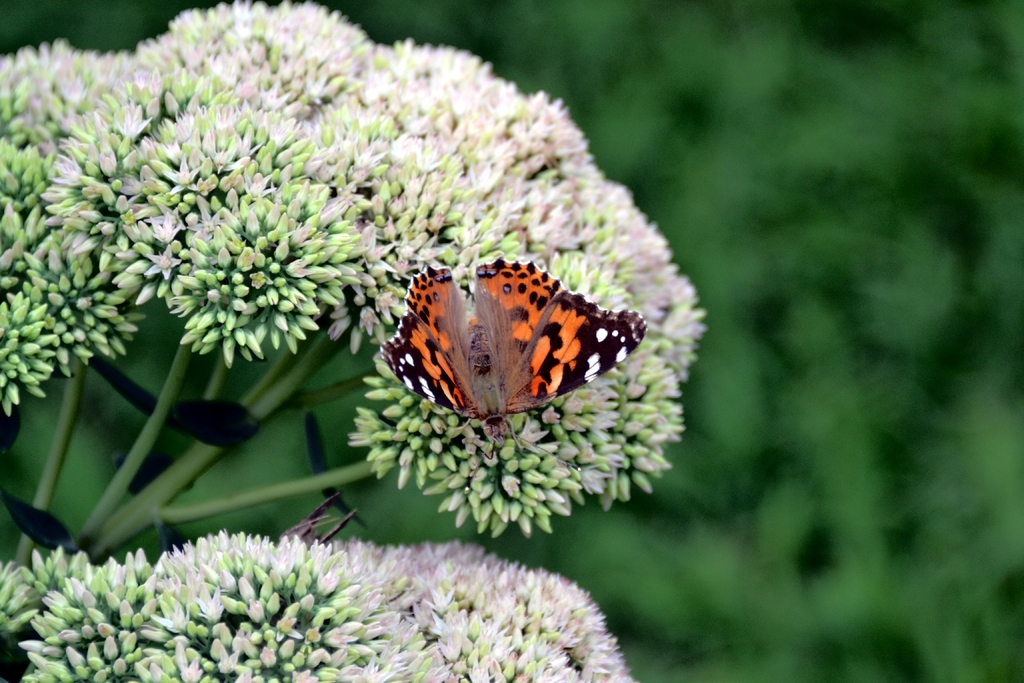Butterfly: (390, 240, 653, 456)
